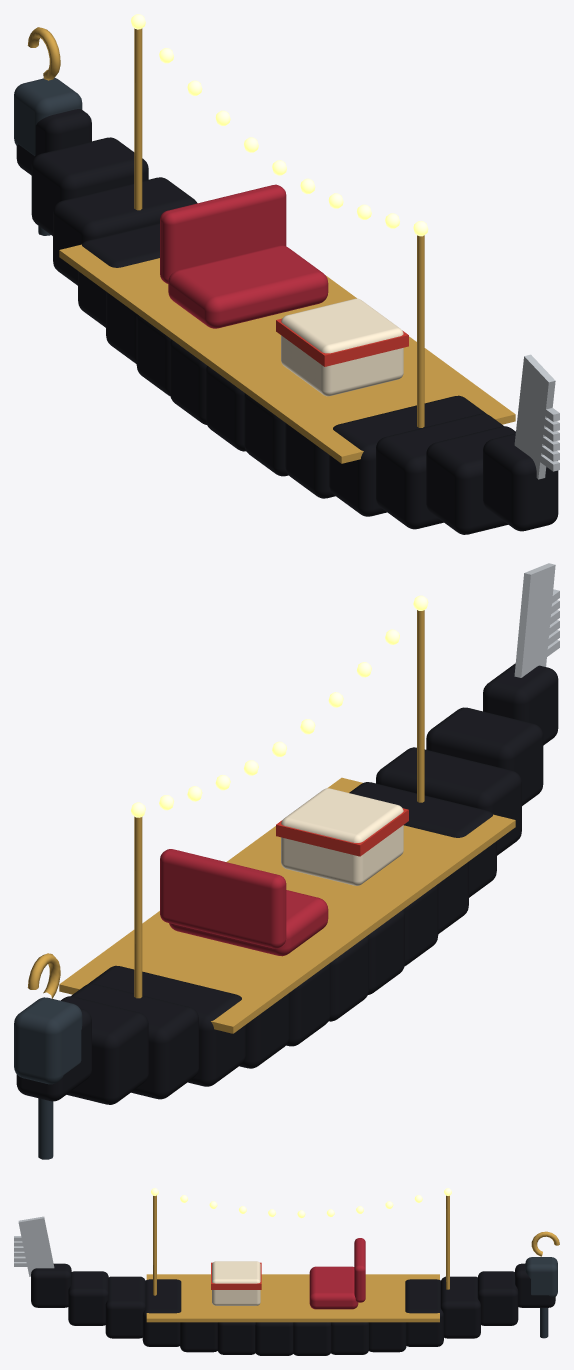
Rendered from motor-gondola.glb.
3 views of the same model, one above another, from view 1: azimuth 30°, elevation 25°; view 2: azimuth 150°, elevation 25°; view 3: azimuth 270°, elevation 25° (orthographic). The views are drawn at different scales.
Parts seen in each view (by area): view 1: gondola paint, gondola gold, gondola cushion, gondola box, gondola steel, gondola motor, gondola bulbs, gondola box stripe; view 2: gondola paint, gondola gold, gondola cushion, gondola box, gondola motor, gondola steel, gondola bulbs, gondola box stripe; view 3: gondola paint, gondola gold, gondola cushion, gondola box, gondola steel, gondola motor, gondola bulbs, gondola box stripe.
Boxes of the visible parts, x1,y1,x2,y2 form: gondola paint: [16, 109, 558, 534]; gondola gold: [27, 27, 515, 463]; gondola cushion: [160, 184, 328, 328]; gondola box: [281, 298, 403, 396]; gondola steel: [514, 354, 559, 479]; gondola motor: [14, 77, 82, 235]; gondola bulbs: [131, 14, 428, 236]; gondola box stripe: [276, 318, 408, 366]; gondola paint: [16, 663, 558, 1104]; gondola gold: [27, 610, 515, 1033]; gondola cushion: [160, 849, 328, 956]; gondola box: [281, 788, 403, 885]; gondola motor: [14, 997, 82, 1159]; gondola steel: [514, 563, 559, 677]; gondola bulbs: [131, 595, 428, 817]; gondola box stripe: [276, 808, 408, 856]; gondola paint: [31, 1263, 555, 1355]; gondola gold: [146, 1195, 559, 1322]; gondola cushion: [309, 1238, 365, 1309]; gondola box: [212, 1261, 260, 1305]; gondola steel: [14, 1216, 54, 1276]; gondola motor: [525, 1257, 557, 1338]; gondola bulbs: [151, 1188, 451, 1218]; gondola box stripe: [211, 1262, 261, 1289].
Size of the model in its own units: 1.28 by 2.01 by 6.71.
